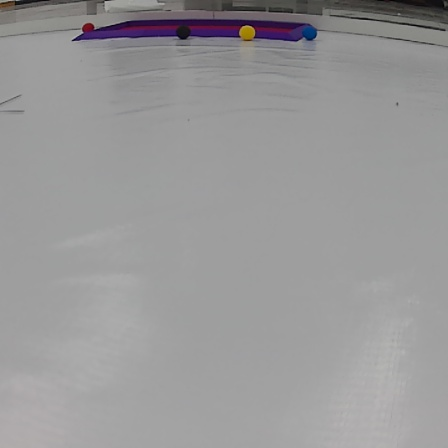black: (176, 25, 191, 39)
blue: (302, 24, 320, 40)
red: (80, 22, 94, 32)
red_aim: (69, 16, 317, 47)
yellow: (237, 27, 258, 40)
